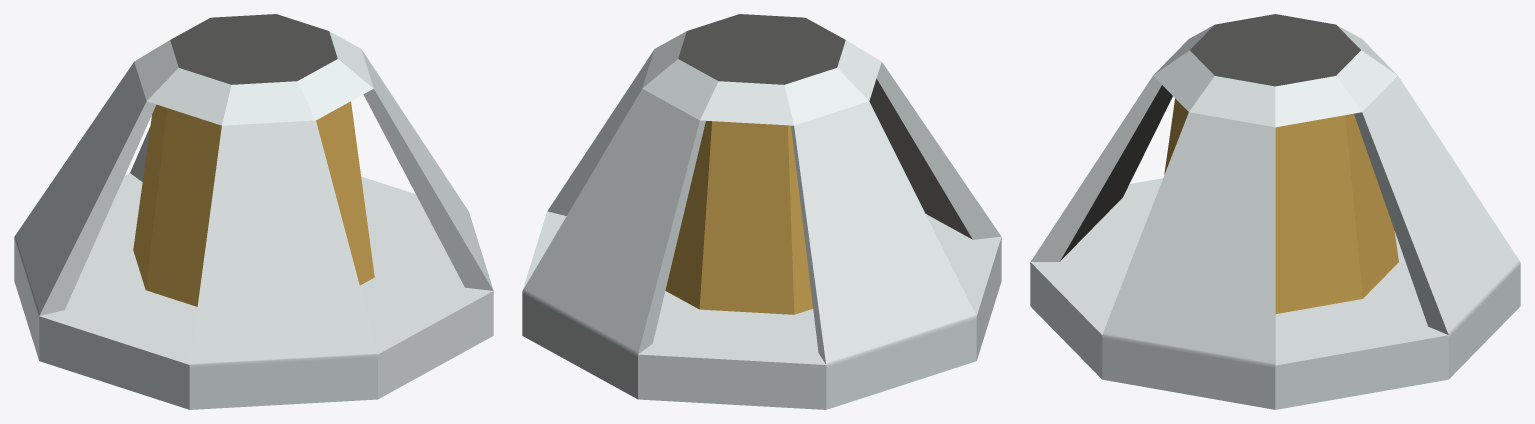
The model's file is highTowerBase.fbx.
The picture shows the model from 3 angles, left to right: view 1: azimuth 30°, elevation 25°; view 2: azimuth 150°, elevation 25°; view 3: azimuth 270°, elevation 25°; orthographic projection.
Visible parts, largest first — view 1: pCylinder1; view 2: pCylinder1; view 3: pCylinder1.
Part boxes in pixels (bbox=[...]): pCylinder1: bbox=[14, 14, 493, 409]; pCylinder1: bbox=[522, 14, 1001, 409]; pCylinder1: bbox=[1030, 14, 1520, 409].
Size of the model in its own units: 10 by 5.77 by 10.
Materials: 1 (1 with a texture image).
